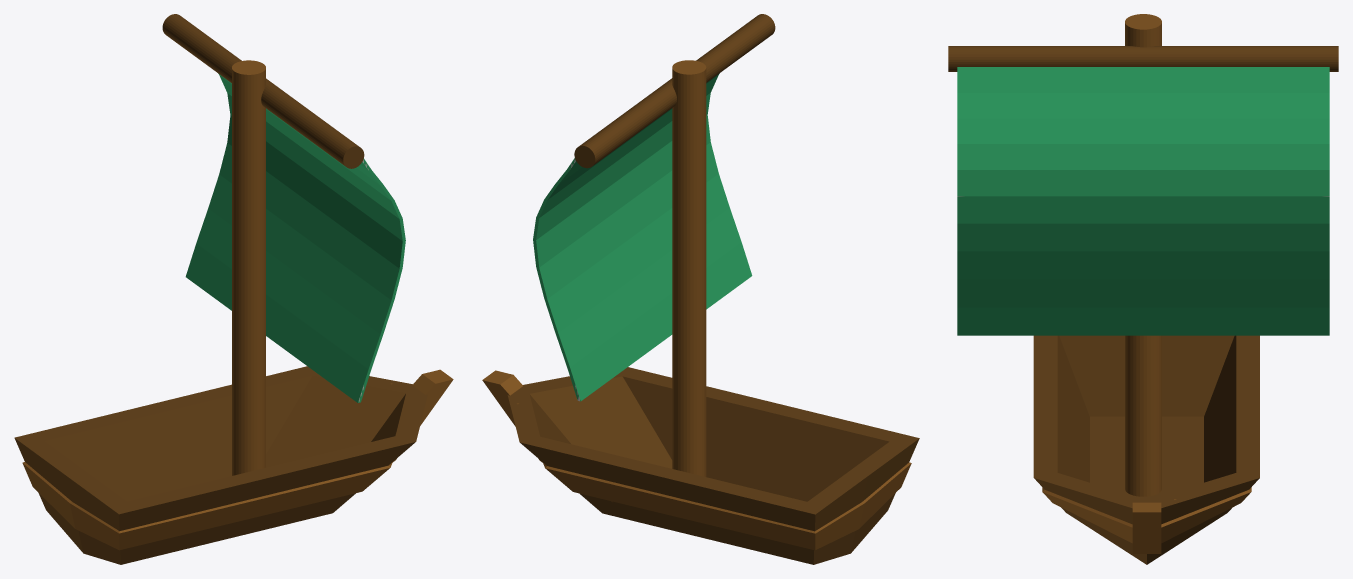
Rendered from OldShip.fbx.
3 renders of one model, left to right at view 1: azimuth 30°, elevation 25°; view 2: azimuth 150°, elevation 25°; view 3: azimuth 270°, elevation 25°, orthographic. The views are drawn at different scales.
Visible parts, largest first — view 1: Hull, Sail, Mast, Boom; view 2: Hull, Sail, Mast, Boom; view 3: Sail, Hull, Boom, Mast.
Part boxes in pixels (x1=…): Hull: x1=14, y1=366, x2=453, y2=564; Sail: x1=185, y1=73, x2=405, y2=402; Mast: x1=232, y1=60, x2=265, y2=475; Boom: x1=162, y1=14, x2=364, y2=168; Hull: x1=482, y1=367, x2=919, y2=564; Sail: x1=533, y1=73, x2=752, y2=401; Mast: x1=672, y1=60, x2=706, y2=476; Boom: x1=574, y1=14, x2=775, y2=168; Sail: x1=957, y1=67, x2=1329, y2=335; Hull: x1=1033, y1=335, x2=1259, y2=564; Boom: x1=948, y1=46, x2=1338, y2=71; Mast: x1=1125, y1=14, x2=1161, y2=496.
Bounding box in the file's own units: 4.56 × 5.12 × 3.75.
